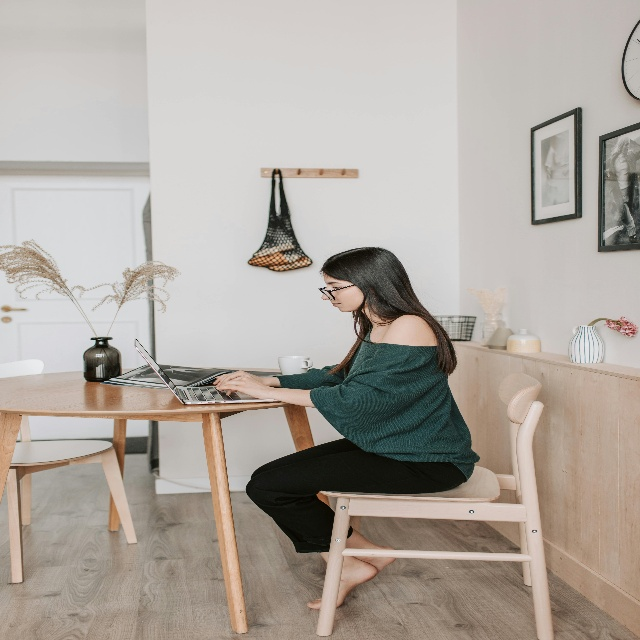Gafas: (318, 284, 356, 301)
Sin_guantes: (212, 370, 268, 395), (215, 376, 269, 400)
